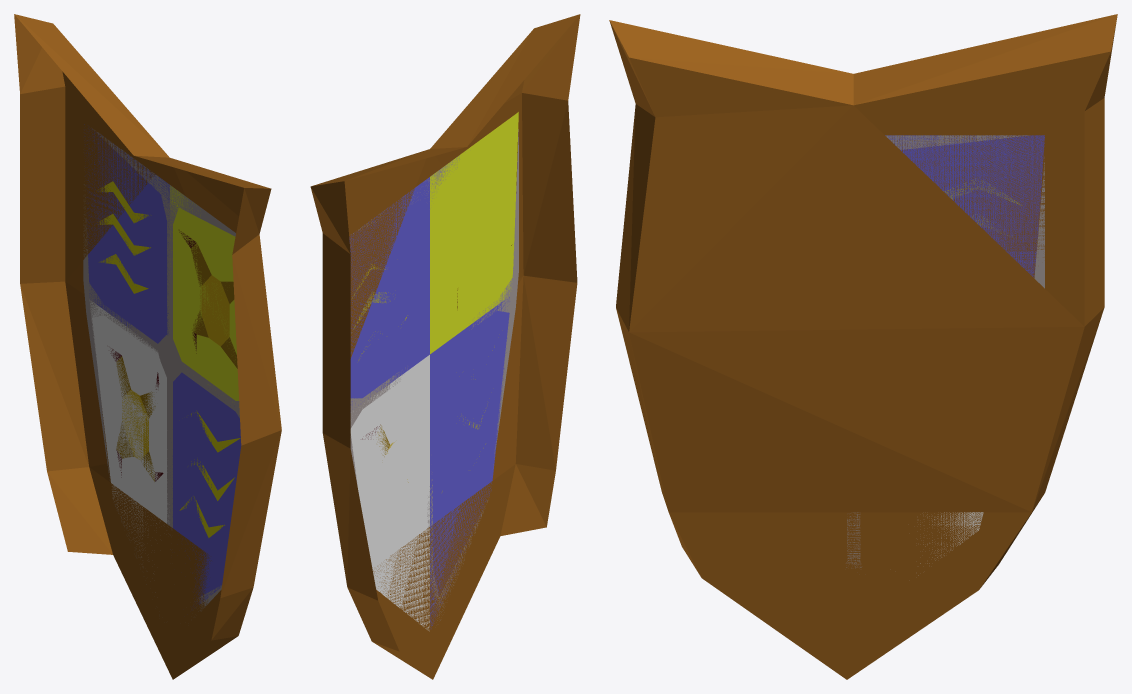
File: obj_sinclair_family_crest_0.obj
3 renders of one model, left to right at view 1: azimuth 30°, elevation 25°; view 2: azimuth 150°, elevation 25°; view 3: azimuth 270°, elevation 25°, orthographic. The views are drawn at different scales.
Bounding box in the file's own units: 0.0703 × 0.8438 × 0.6016.
